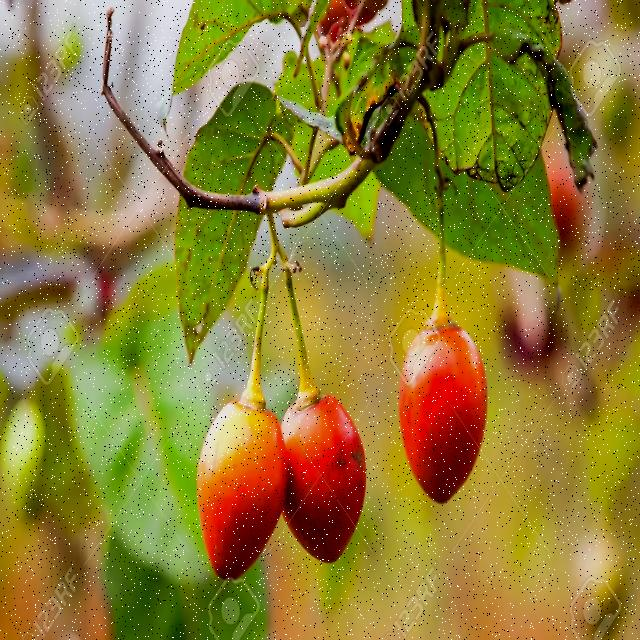Tree Tomato: (183, 355, 288, 601), (272, 370, 383, 590), (400, 308, 498, 512)
